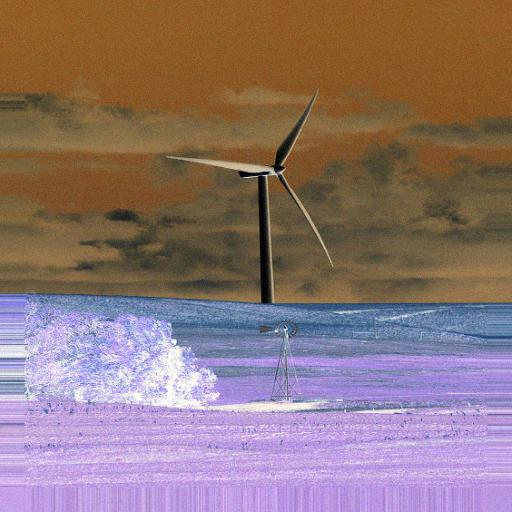wind turbine: (163, 88, 336, 306)
